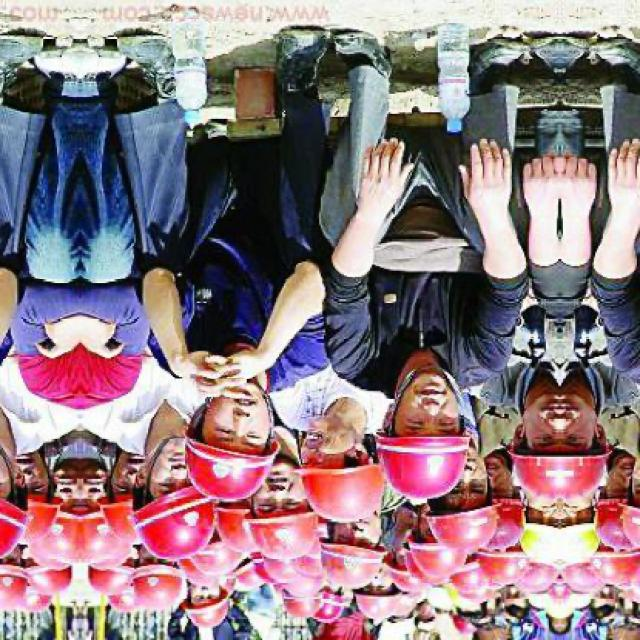con casco: (236, 400, 394, 504), (361, 386, 497, 489), (203, 379, 329, 489), (426, 452, 518, 555), (134, 436, 223, 528), (320, 522, 387, 590), (184, 521, 260, 578), (186, 568, 240, 632), (578, 428, 610, 512), (400, 530, 452, 576), (517, 428, 564, 478)
